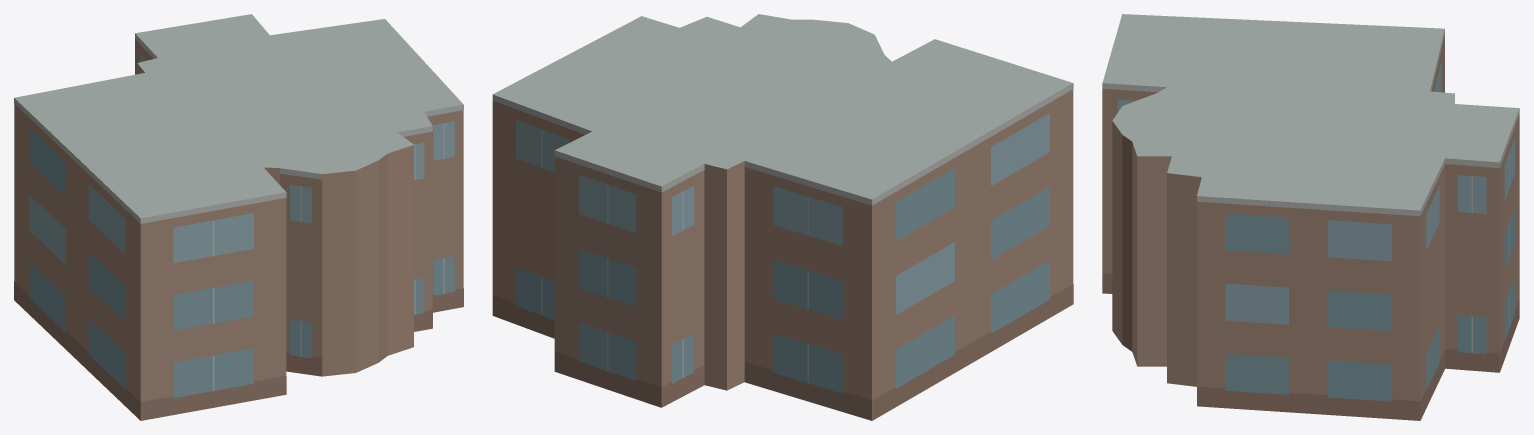
The model's file is survey-upis-32681696.glb.
3 views of the same model, side by side, from view 1: azimuth 30°, elevation 25°; view 2: azimuth 150°, elevation 25°; view 3: azimuth 270°, elevation 25° (orthographic). The views are drawn at different scales.
Visible parts, largest first — view 1: survey-upis-32681696.tmp; view 2: survey-upis-32681696.tmp; view 3: survey-upis-32681696.tmp.
Boxes of the visible parts, x1,y1,x2,y2 form: survey-upis-32681696.tmp: (14,14,463,420); survey-upis-32681696.tmp: (492,14,1073,420); survey-upis-32681696.tmp: (1102,14,1519,420).
Size of the model in its own units: 18.06 by 9 by 16.19.
